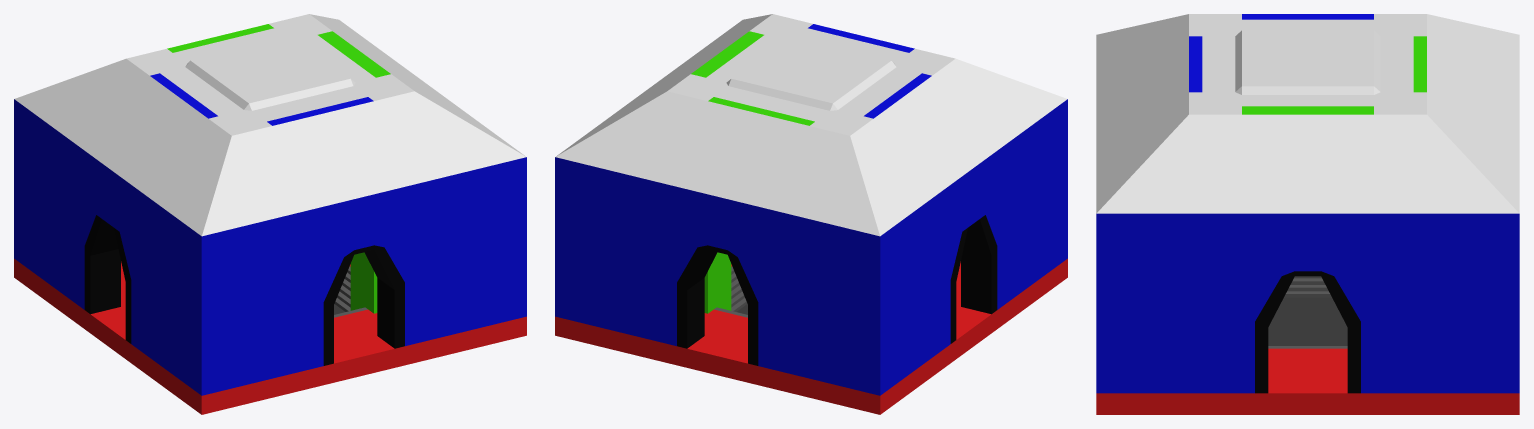
The model's file is TestFourway.fbx.
The picture shows the model from 3 angles, left to right: view 1: azimuth 30°, elevation 25°; view 2: azimuth 150°, elevation 25°; view 3: azimuth 270°, elevation 25°; orthographic projection. The views are drawn at different scales.
Parts seen in each view (by area): view 1: Plane; view 2: Plane; view 3: Plane.
Part boxes in pixels (x1,y1,x2,y2): Plane: (14,14,526,414); Plane: (555,14,1067,414); Plane: (1096,14,1519,414).
Size of the model in its own units: 3200 by 3200 by 2230.
